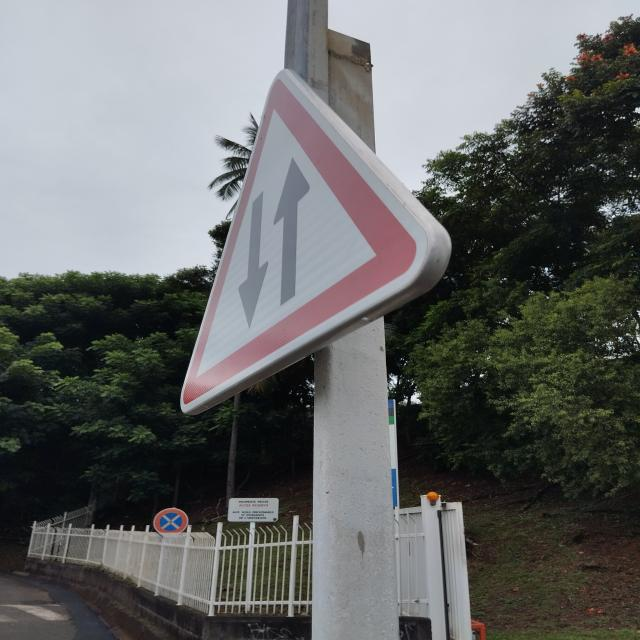Double-Sens: (173, 68, 471, 424)
